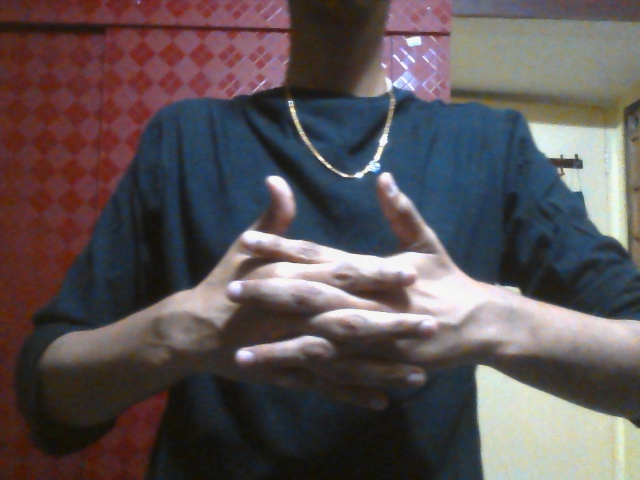W: (194, 175, 473, 429)
